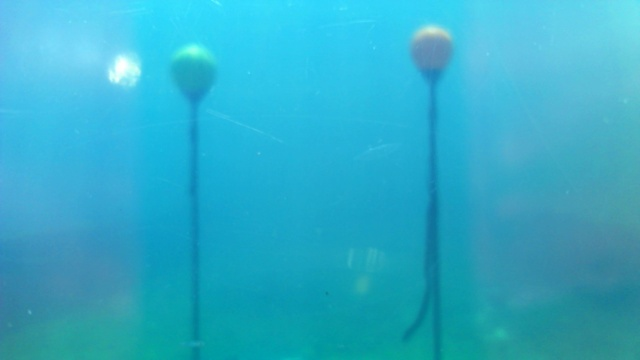buoy_green: (168, 40, 216, 104)
buoy_red: (410, 26, 450, 77)
